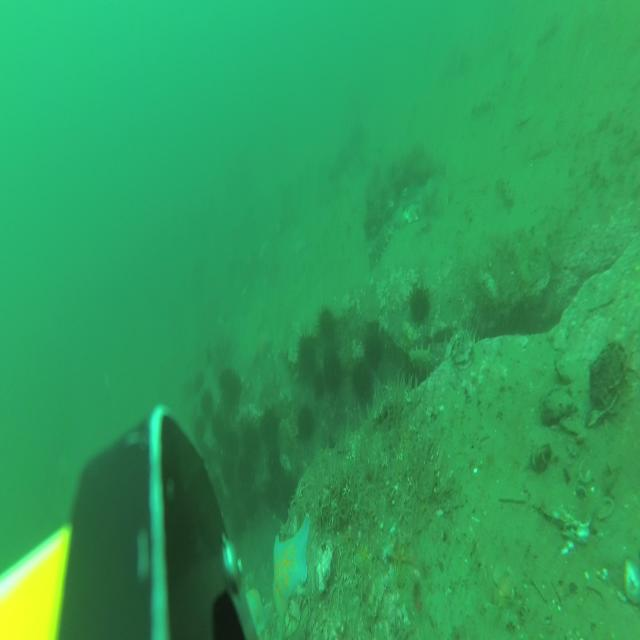echinus: (294, 332, 318, 380), (408, 280, 432, 326), (352, 357, 374, 403), (325, 350, 343, 399), (323, 432, 343, 470), (262, 411, 281, 449), (318, 306, 336, 346), (365, 332, 384, 368), (240, 426, 258, 461), (299, 406, 315, 442), (238, 459, 255, 492), (275, 493, 290, 524), (269, 453, 284, 481), (282, 474, 297, 501), (246, 488, 260, 516), (220, 458, 234, 486), (228, 380, 242, 407), (226, 430, 239, 457), (193, 417, 205, 445), (200, 389, 212, 417), (266, 479, 278, 506), (211, 413, 222, 442), (221, 368, 233, 394), (193, 373, 206, 396), (316, 375, 327, 399), (203, 444, 214, 468)
holothurian: (368, 220, 394, 269), (409, 344, 441, 375), (281, 418, 299, 453), (497, 174, 515, 205), (471, 92, 497, 113), (464, 202, 474, 224)
scallop: (492, 560, 516, 600), (403, 201, 421, 224), (242, 569, 256, 594), (238, 532, 251, 558)
starfish: (272, 512, 310, 624), (243, 588, 266, 640), (388, 536, 413, 583), (360, 540, 372, 564)
